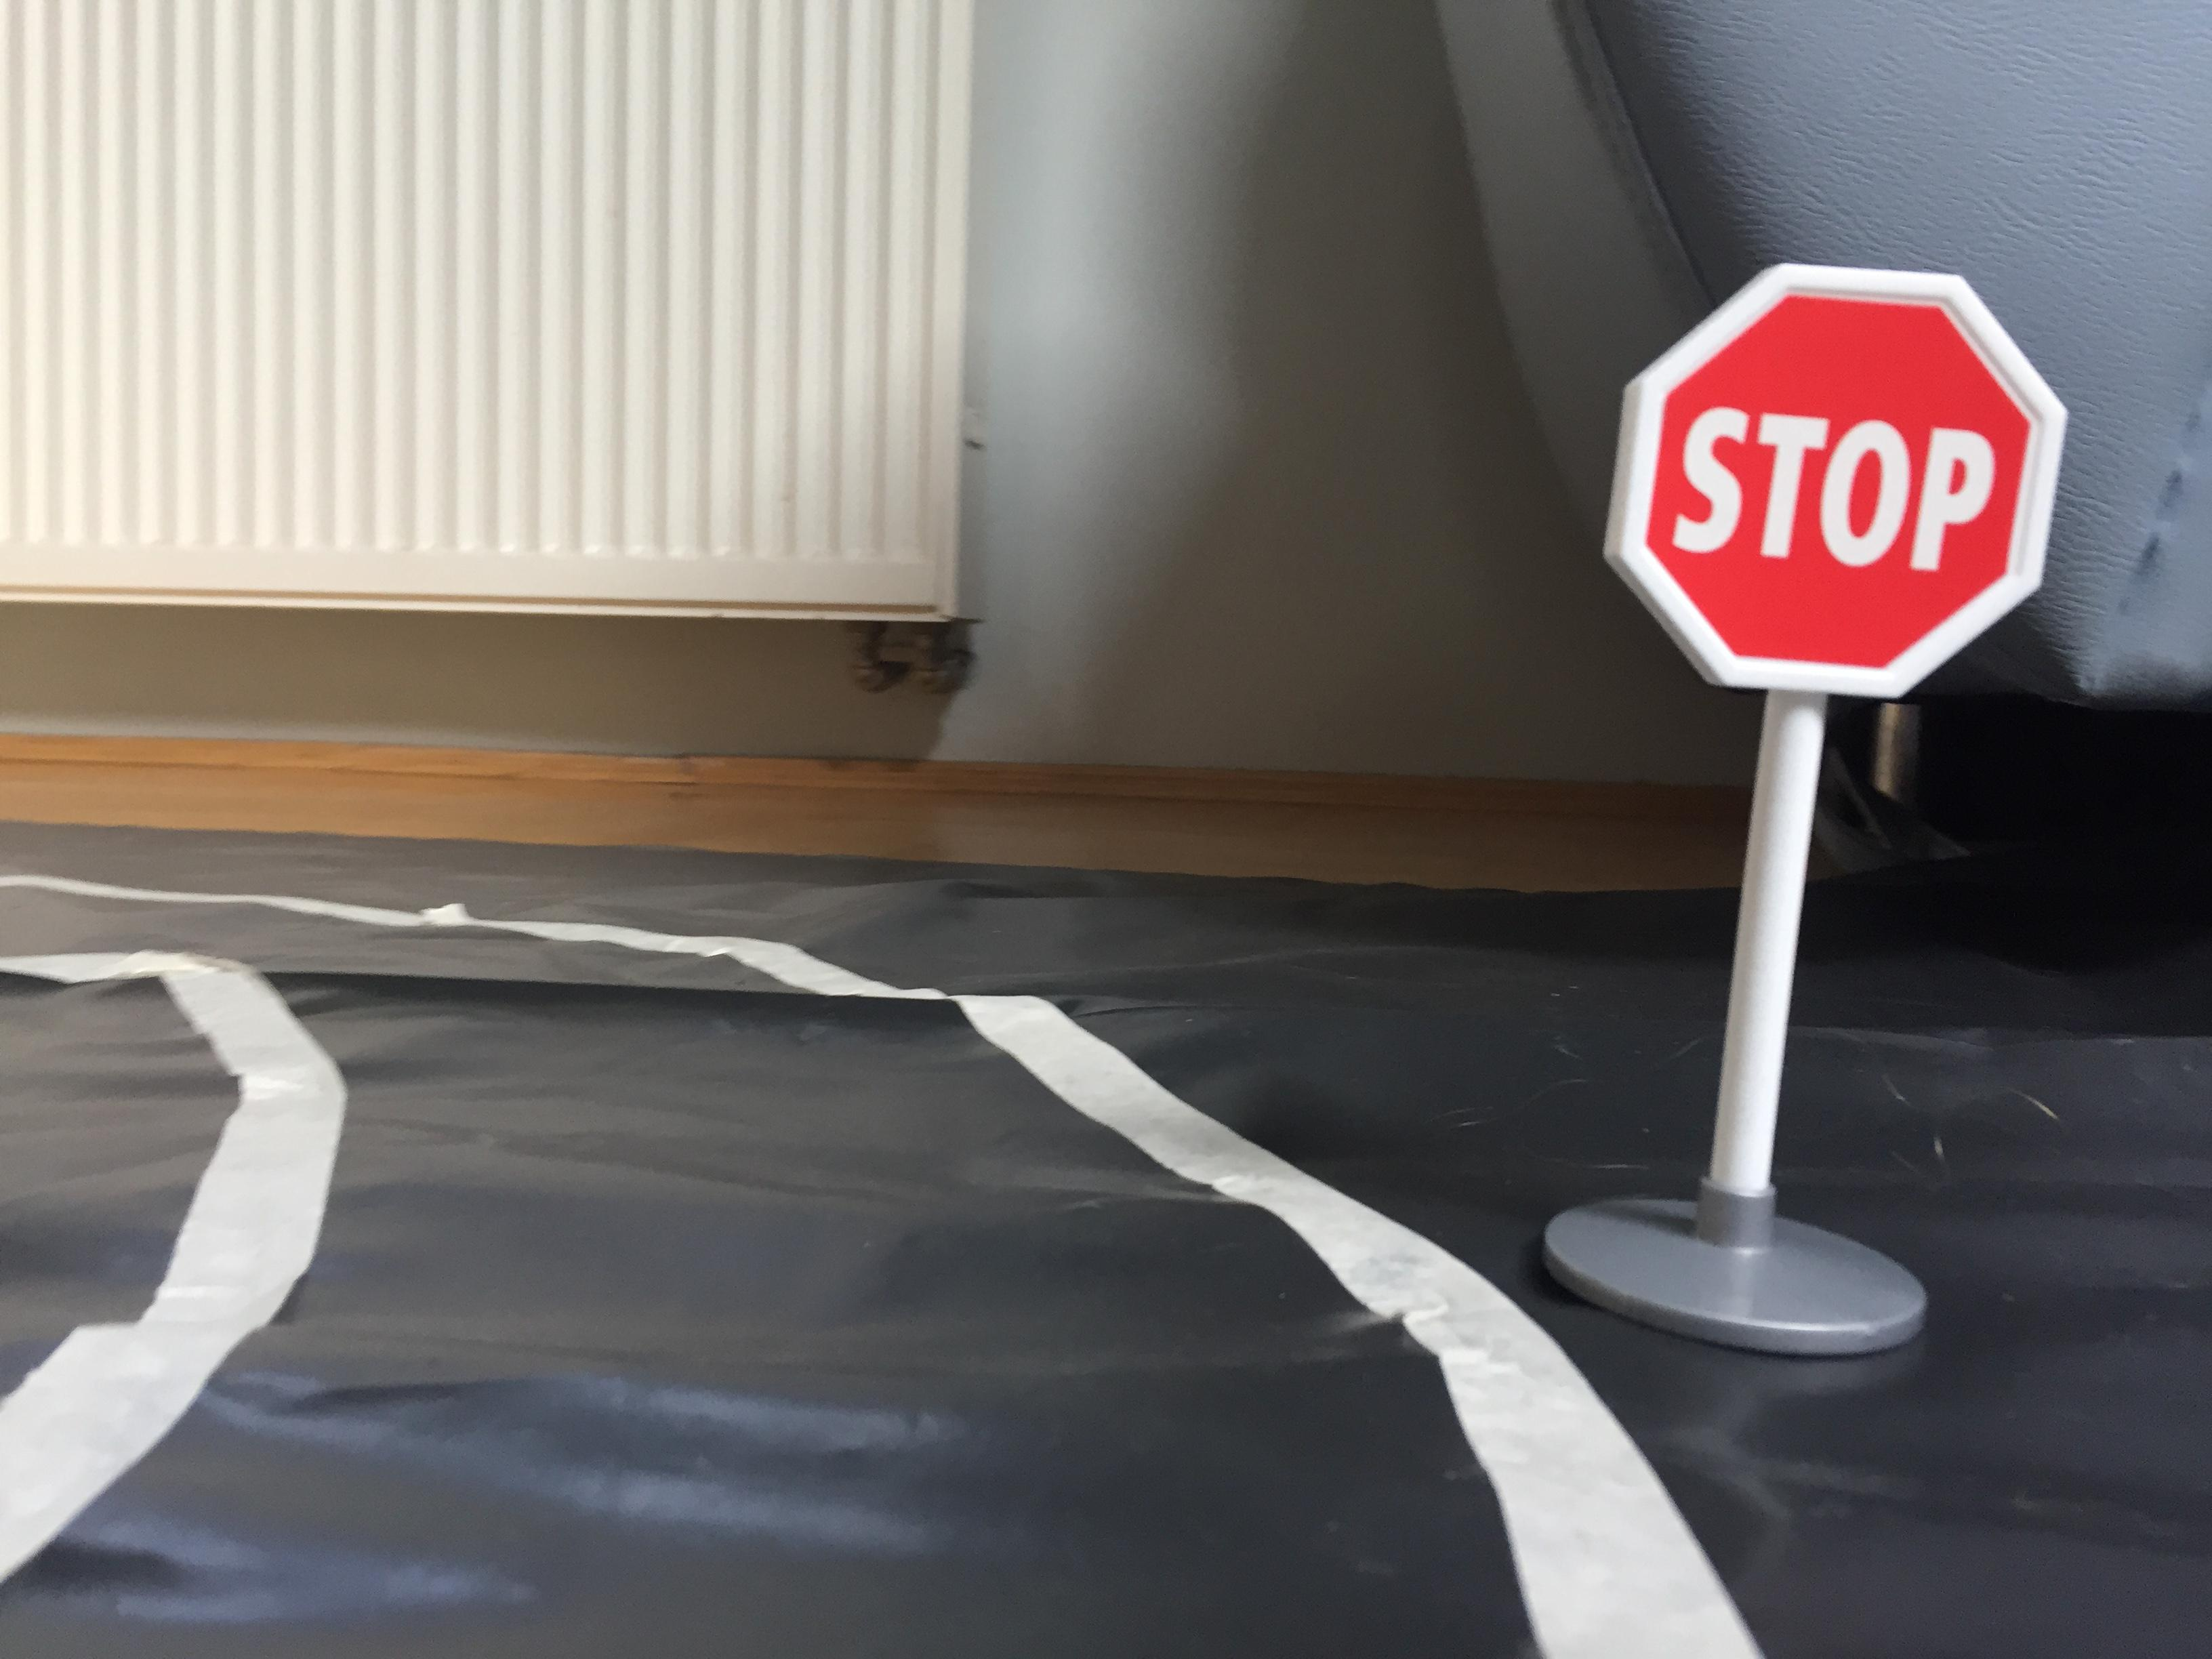stop: (1588, 256, 2087, 720)
